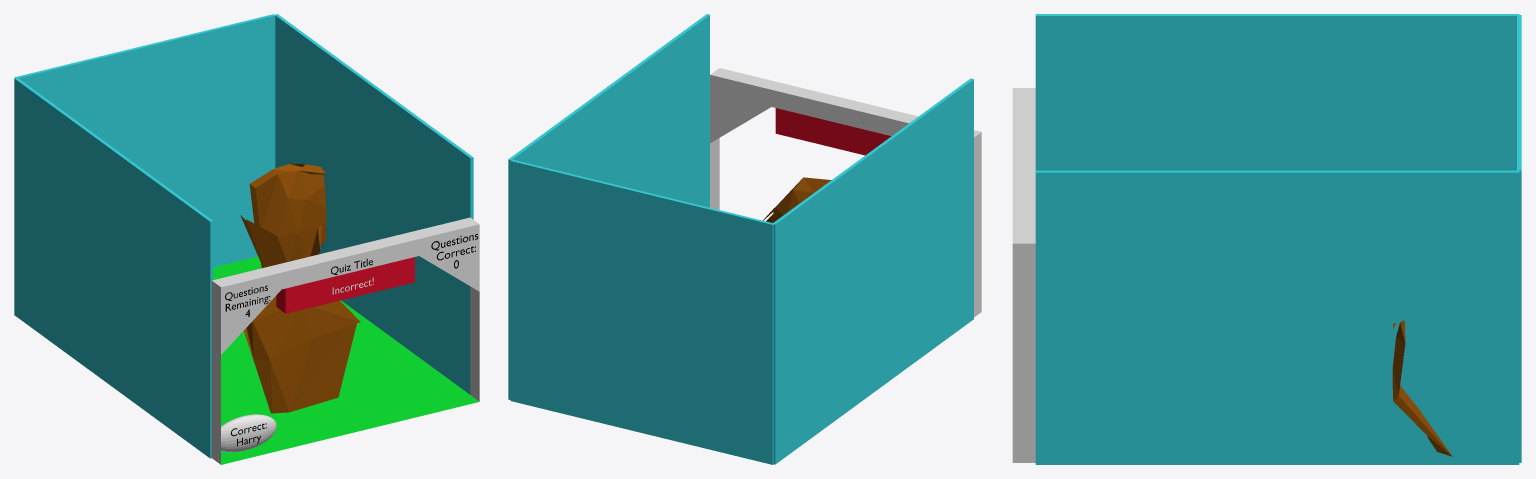
Rendered from arch_with_incorrect.fbx.
3 views of the same model, side by side, from view 1: azimuth 30°, elevation 25°; view 2: azimuth 150°, elevation 25°; view 3: azimuth 270°, elevation 25° (orthographic). The views are drawn at different scales.
Visible parts, largest first — view 1: Left, Right, Background, Floor, Obstacle_center, Obstacle_right, Title_Pane, Triangle_Left, Question Pane, Triangle_Right, Option1, Wall_Left (+1 smaller); view 2: Background, Left, Right, Triangle_Right, Title_Pane, Question Pane, Obstacle_center, Wall_Left, Triangle_Left, Wall_Right; view 3: Right, Left, Wall_Right, Triangle_Right, Title_Pane, Background, Obstacle_right, Triangle_Left.
Boxes of the visible parts, <box> form: Left: <box>14,77,213,458</box>; Right: <box>275,14,473,394</box>; Background: <box>15,14,275,267</box>; Floor: <box>213,256,479,464</box>; Obstacle_center: <box>244,296,360,413</box>; Obstacle_right: <box>240,163,326,268</box>; Title_Pane: <box>211,218,479,303</box>; Triangle_Left: <box>211,261,301,354</box>; Question Pane: <box>276,257,414,313</box>; Triangle_Right: <box>390,217,479,291</box>; Option1: <box>221,414,276,452</box>; Wall_Left: <box>211,348,220,464</box>; Background: <box>510,159,774,464</box>; Left: <box>773,78,973,464</box>; Right: <box>508,14,709,399</box>; Triangle_Right: <box>710,68,800,143</box>; Title_Pane: <box>710,68,980,137</box>; Question Pane: <box>775,108,891,155</box>; Obstacle_center: <box>763,177,831,222</box>; Wall_Left: <box>974,201,981,317</box>; Triangle_Left: <box>890,112,981,205</box>; Wall_Right: <box>710,138,719,209</box>; Right: <box>1035,170,1519,464</box>; Left: <box>1035,14,1519,170</box>; Wall_Right: <box>1012,327,1035,462</box>; Triangle_Right: <box>1012,195,1035,327</box>; Title_Pane: <box>1012,88,1035,264</box>; Background: <box>1517,15,1521,462</box>; Obstacle_right: <box>1392,320,1452,456</box>; Triangle_Left: <box>1012,88,1035,136</box>.
Bounding box in the file's own units: 1762 × 1518 × 2220.
